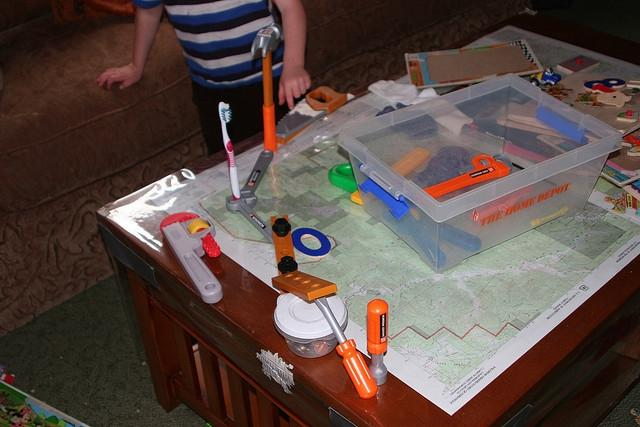tomato: (276, 86, 348, 138)
